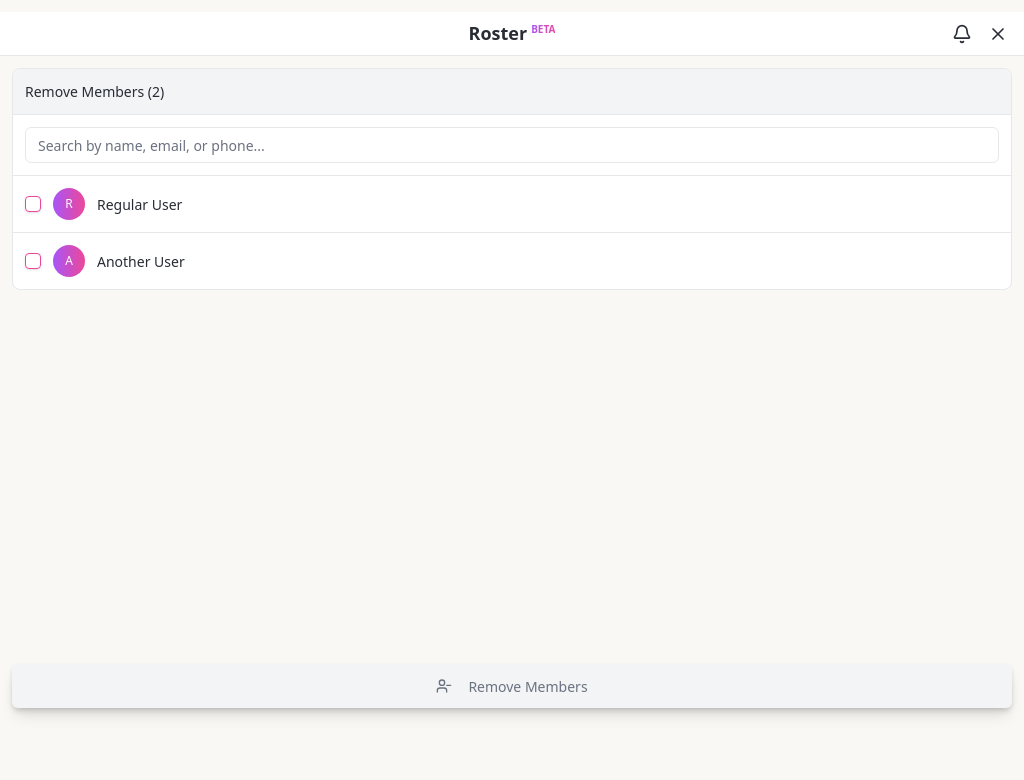
Scenario: RemoveMembersPage › removing members › should update remove button text when members are selected
The image size is (1024, 780).
Expected: the text "Regular User" is shown, [97,194,182,214]
Click the checkbox in the row of "Regular User" at (33, 204), box [25,196,41,212]
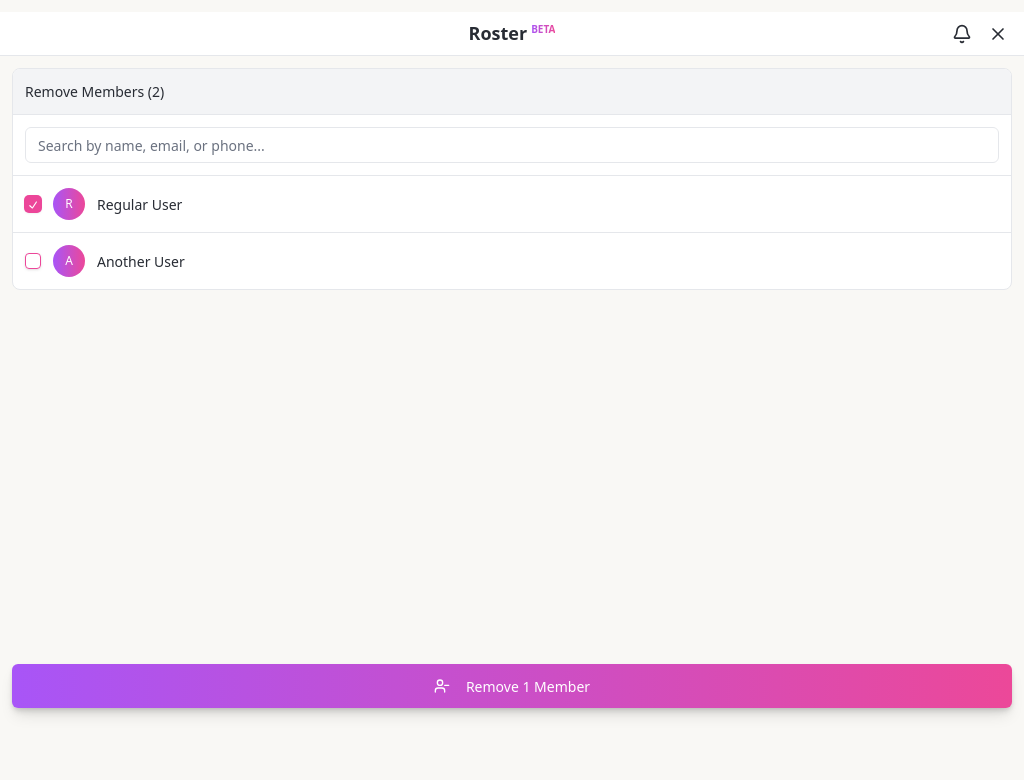
Click the checkbox in the row of "Another User" at (33, 261), box [25,253,41,269]
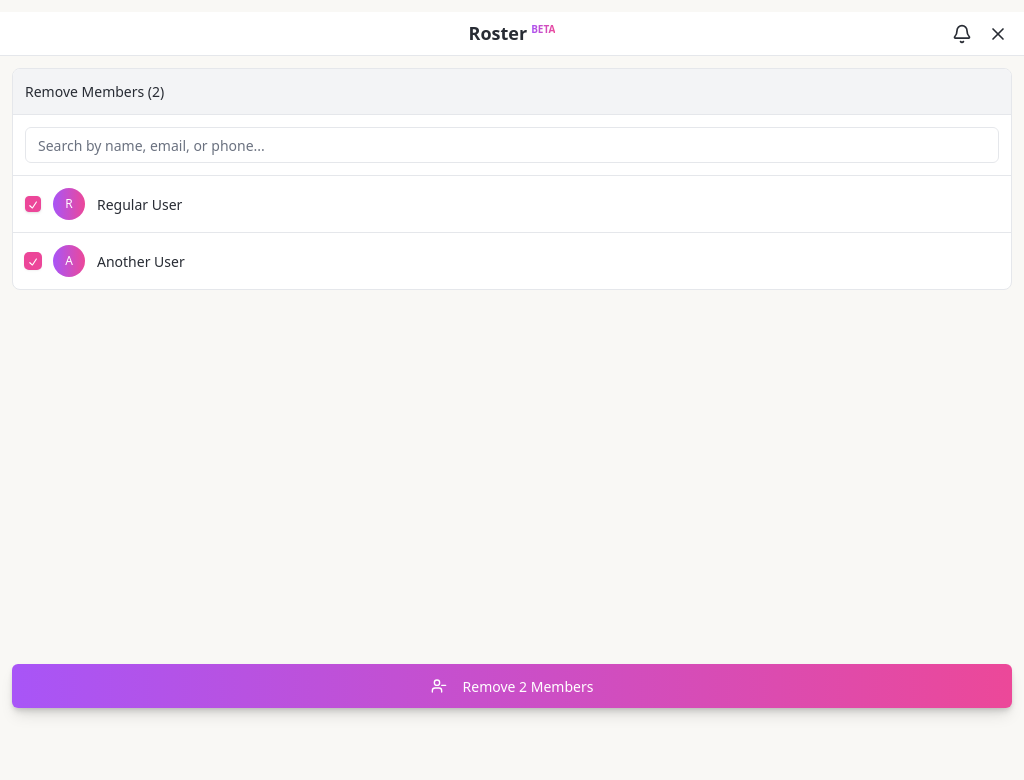
Expected: the button "Remove 2 Members" is shown, [12,664,1012,708]
